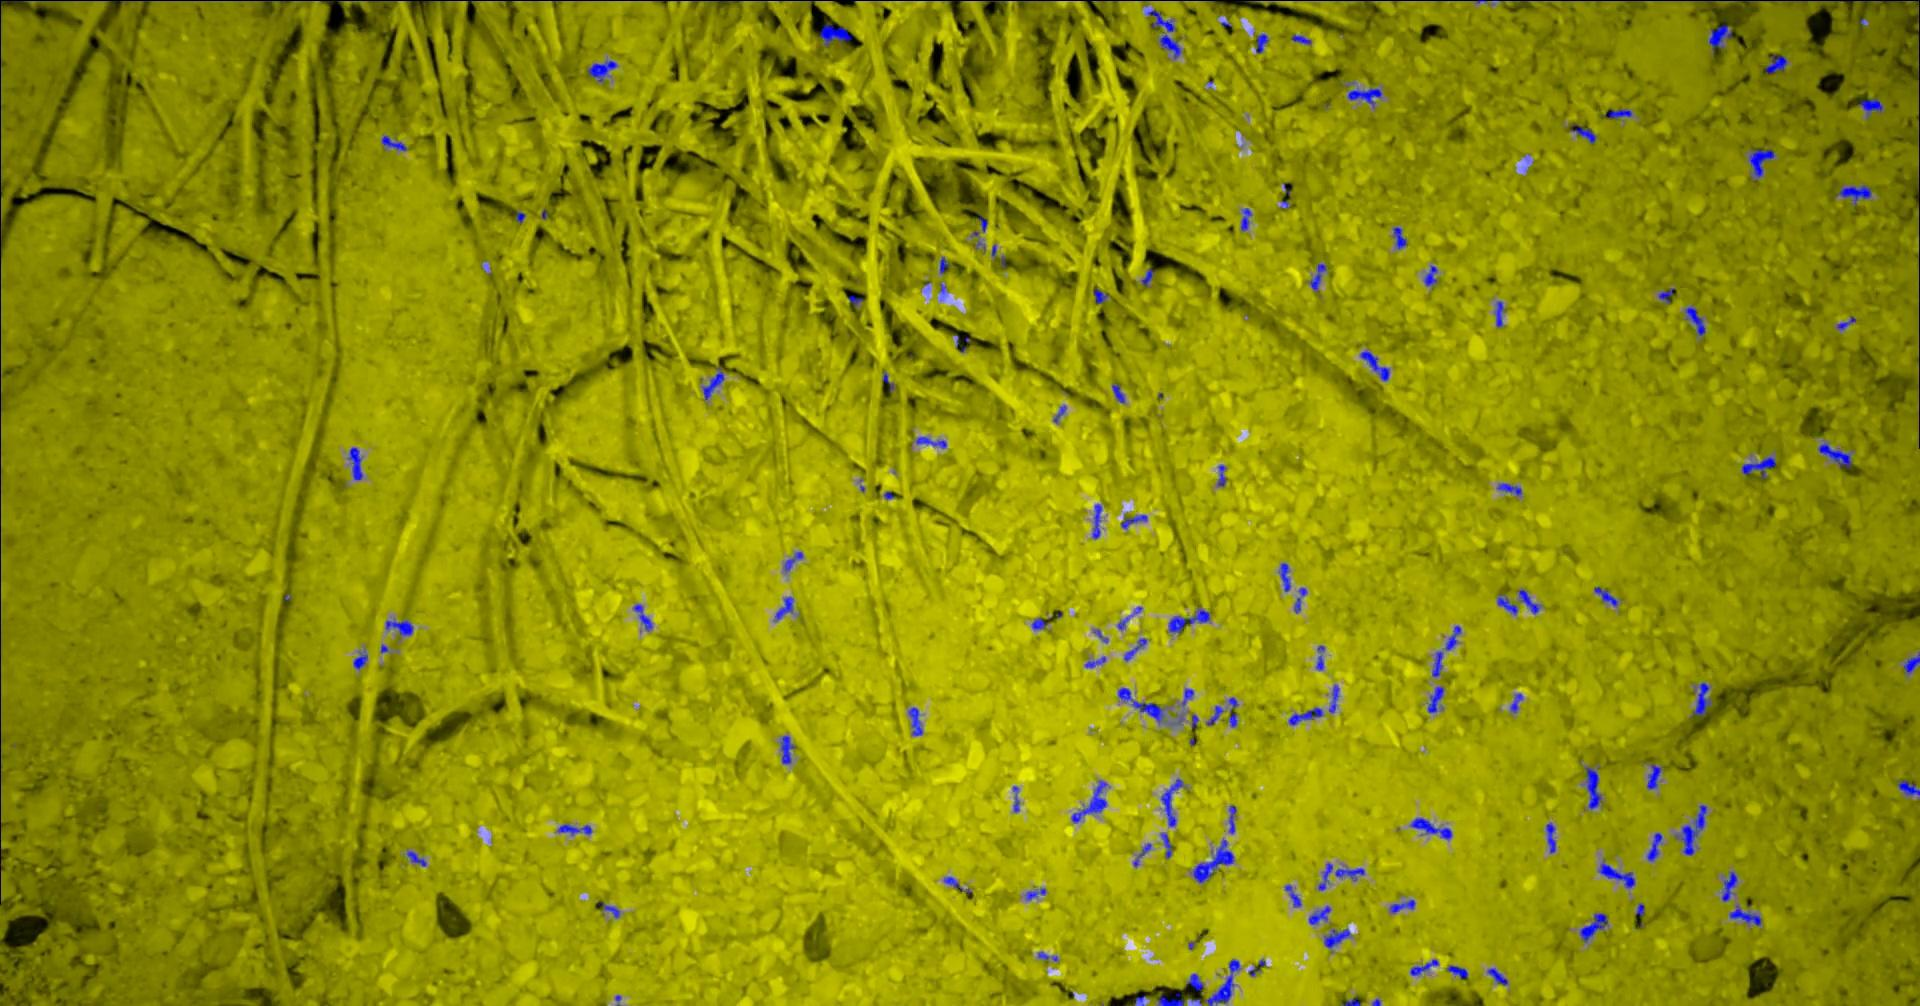ant: (1192, 840, 1233, 882), (1147, 9, 1180, 58), (1117, 687, 1163, 723), (1205, 959, 1239, 1005), (1070, 780, 1106, 822), (1676, 804, 1705, 855), (1318, 862, 1364, 890), (1161, 779, 1185, 826), (1597, 859, 1636, 888), (1168, 608, 1209, 633), (1410, 817, 1451, 840), (1359, 351, 1389, 381), (1817, 442, 1851, 467), (1578, 913, 1608, 942), (1741, 456, 1777, 479), (1749, 149, 1774, 180), (1583, 767, 1601, 809), (1708, 23, 1731, 53), (1347, 86, 1382, 107), (1836, 184, 1870, 205), (1690, 682, 1710, 716), (819, 23, 851, 44), (701, 367, 723, 399), (1684, 305, 1705, 335), (1288, 708, 1323, 725), (587, 60, 616, 81), (1730, 904, 1760, 925), (1323, 929, 1350, 951), (1123, 636, 1145, 661), (1570, 123, 1596, 144), (632, 603, 651, 631), (1517, 589, 1539, 614), (1308, 263, 1326, 291), (1858, 97, 1883, 116), (347, 447, 362, 479), (1646, 832, 1662, 861), (1721, 871, 1737, 901), (1410, 959, 1437, 976), (1592, 586, 1617, 605), (773, 596, 792, 620), (943, 876, 970, 893), (1496, 593, 1517, 614), (1763, 53, 1785, 72), (780, 735, 795, 763), (1444, 625, 1460, 650), (1308, 904, 1330, 923), (381, 135, 408, 150), (385, 620, 411, 635), (1427, 686, 1443, 713), (1133, 843, 1150, 866), (1284, 884, 1302, 907), (908, 708, 922, 735), (916, 436, 946, 448), (783, 551, 803, 572), (1646, 763, 1661, 789), (557, 823, 590, 835), (596, 901, 618, 917), (1120, 514, 1147, 528), (1277, 561, 1290, 591), (1487, 967, 1507, 984), (1897, 779, 1919, 795), (1156, 992, 1183, 1005), (1206, 705, 1223, 725), (1186, 973, 1203, 993), (1903, 652, 1919, 673), (1293, 587, 1305, 612), (1389, 899, 1415, 912), (1603, 108, 1630, 119), (1392, 226, 1406, 249), (1092, 503, 1101, 539), (406, 850, 425, 866), (1545, 822, 1556, 852), (1497, 483, 1521, 495), (1023, 887, 1045, 901), (1328, 683, 1338, 713), (1255, 33, 1269, 53), (1446, 965, 1467, 979), (1431, 652, 1443, 676), (1161, 833, 1172, 857), (352, 652, 367, 669), (1423, 265, 1437, 285), (1509, 694, 1523, 713), (1239, 207, 1251, 230), (1228, 697, 1237, 727), (1111, 382, 1124, 403), (1658, 287, 1674, 304), (1836, 316, 1855, 329), (1495, 300, 1503, 326), (1290, 33, 1310, 44), (1084, 655, 1105, 667), (1093, 287, 1107, 304), (1228, 804, 1236, 833), (1316, 645, 1324, 669), (1340, 995, 1360, 1005), (1142, 268, 1153, 286), (1217, 464, 1225, 486), (1181, 688, 1192, 705), (1031, 617, 1046, 629), (1012, 786, 1018, 810), (1851, 0, 1906, 1)
